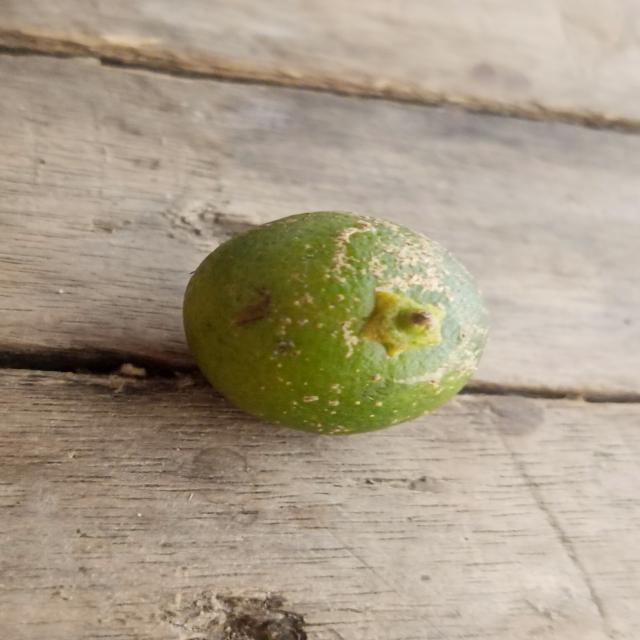scab: (176, 212, 477, 426)
